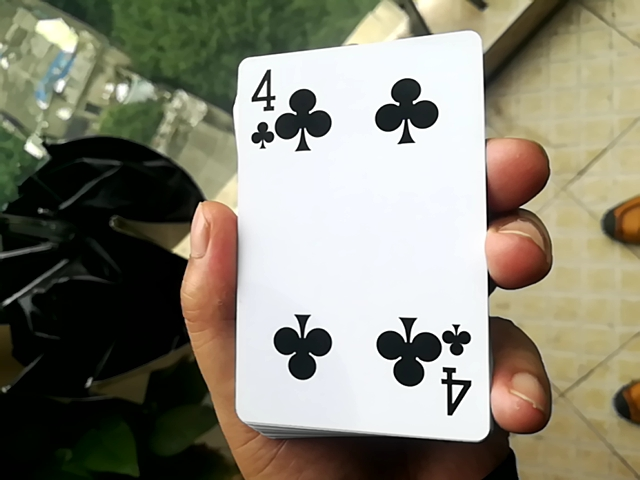mh 4: (233, 17, 477, 446)
